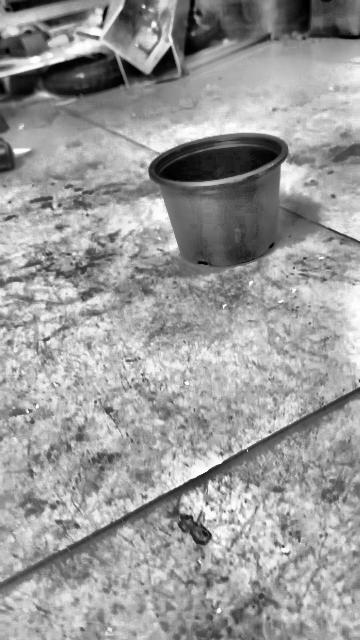pot: (149, 133, 287, 268)
